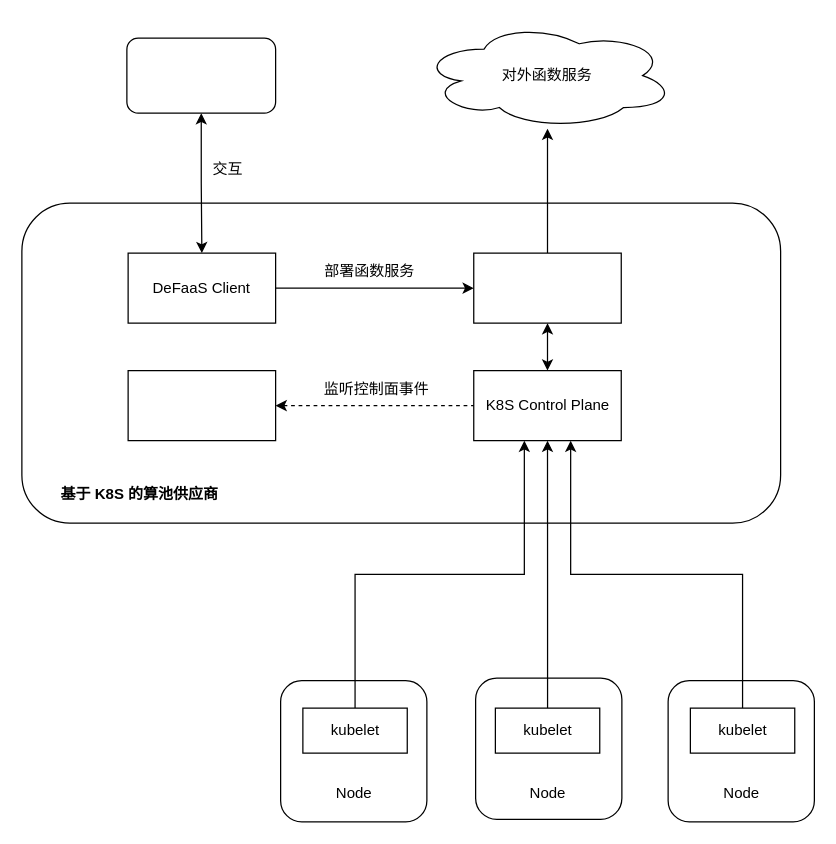
Some shapes in this 836 by 844 pixel diagram are drawn without their labels. The box of each missing label's shape, as (x1, y1, x2, y2) in pixels:
DeFaaS 平台: (126, 37, 276, 113)
OpenFaaS: (472, 252, 621, 323)
算池收益结算模块: (127, 369, 276, 441)
